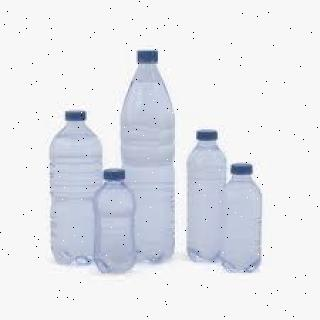Plastic-bottle: (122, 48, 179, 264), (48, 108, 110, 267), (186, 126, 230, 266), (91, 166, 142, 278), (222, 162, 264, 276)
